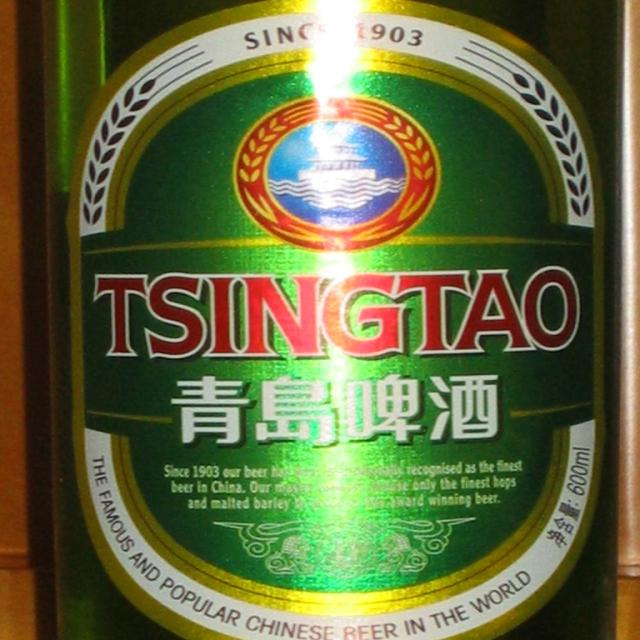tsingtao: (67, 2, 610, 640)
